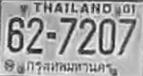0: (98, 17, 115, 54)
2: (26, 16, 43, 54), (78, 17, 95, 54)
6: (7, 16, 23, 51)
7: (58, 17, 76, 54), (118, 18, 136, 54)
BKK: (25, 58, 114, 76)
